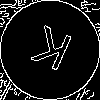K: (25, 25, 75, 80)
